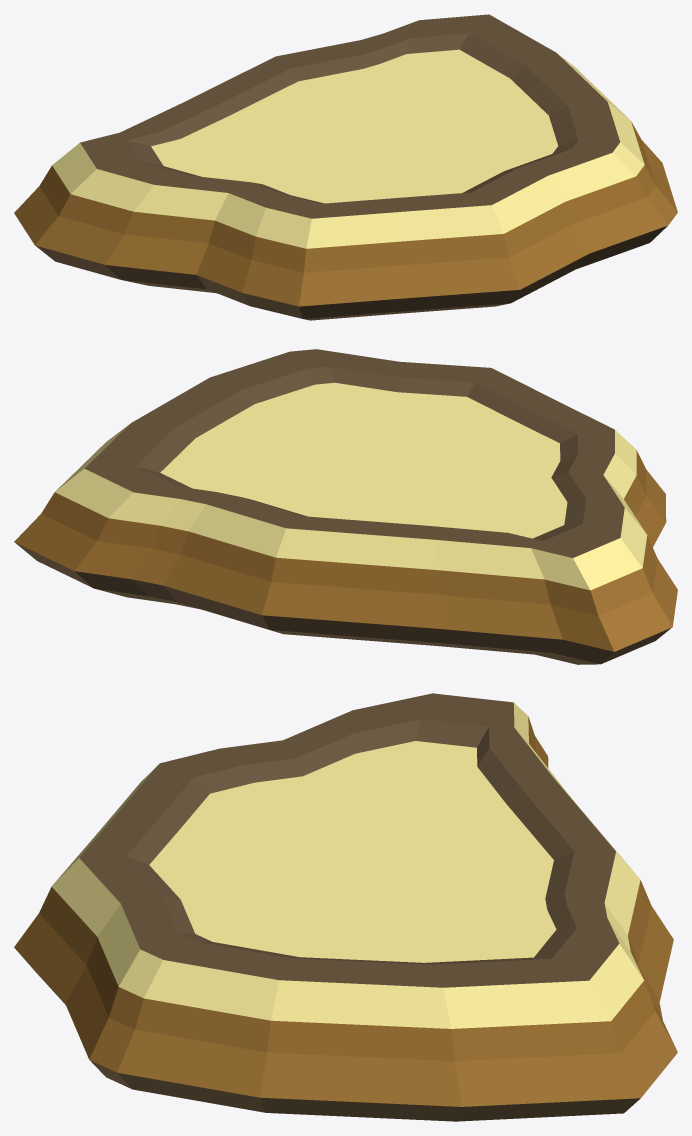
Rendered from Platform03.fbx.
3 renders of one model, top to bottom at view 1: azimuth 30°, elevation 25°; view 2: azimuth 150°, elevation 25°; view 3: azimuth 270°, elevation 25°, orthographic. The views are drawn at different scales.
Parts seen in each view (by area): view 1: Plane.006; view 2: Plane.006; view 3: Plane.006.
Part boxes in pixels (x1=…): Plane.006: x1=14, y1=14, x2=677, y2=320; Plane.006: x1=14, y1=349, x2=677, y2=664; Plane.006: x1=14, y1=693, x2=677, y2=1121.
Bounding box in the file's own units: 2845 × 474 × 2207.
